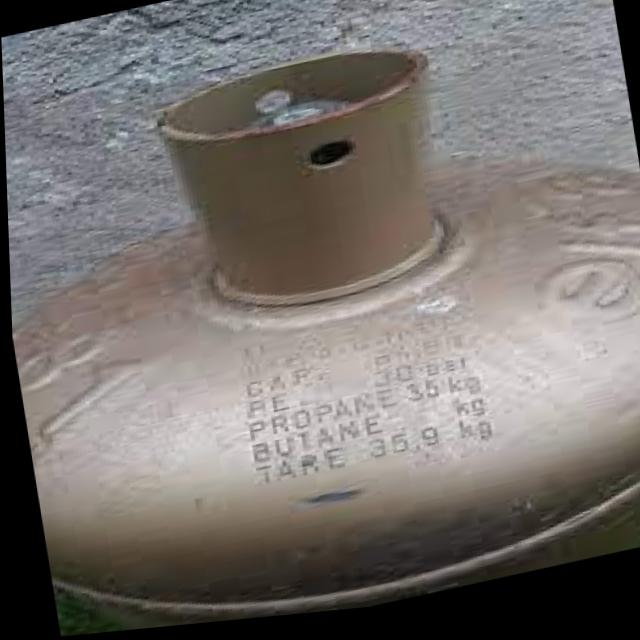ocr: (200, 291, 504, 507)
